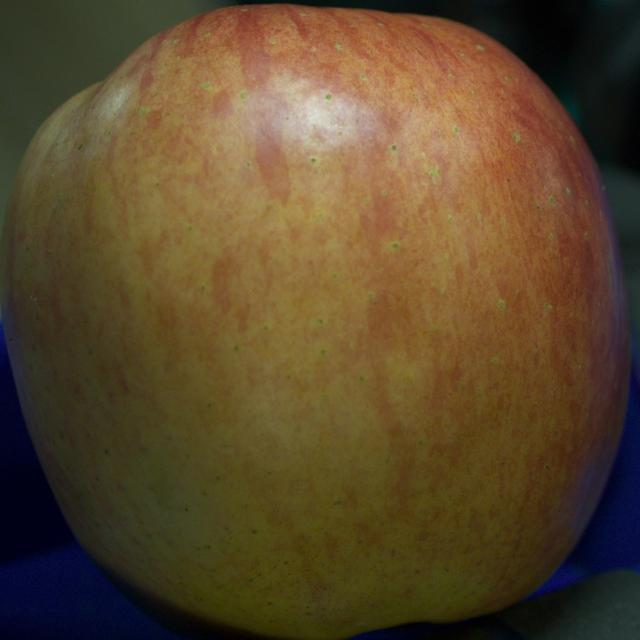apple: (0, 5, 630, 639)
